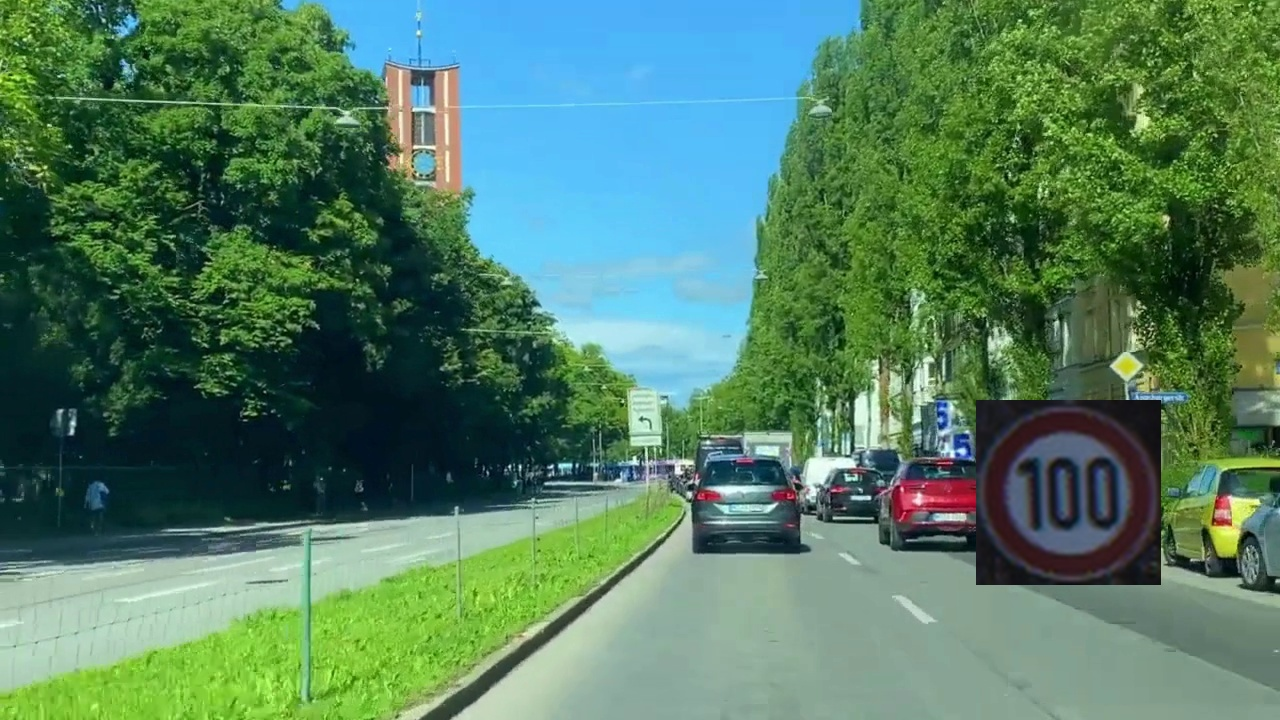Speed 100: (976, 400, 1161, 585)
